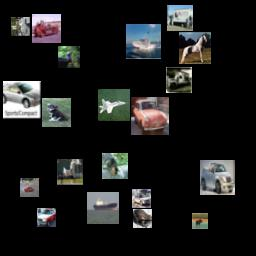airplane: (98, 89, 130, 121)
automobile: (131, 97, 169, 135), (3, 81, 41, 119), (200, 160, 235, 195), (37, 208, 56, 227), (132, 189, 151, 208), (20, 178, 39, 197)
bird: (58, 46, 80, 68)
cat: (102, 153, 128, 179), (11, 17, 30, 36)
deer: (192, 213, 208, 229)
dog: (42, 98, 71, 127)
frog: (133, 209, 152, 228)
ship: (126, 24, 161, 59), (87, 192, 119, 224)
truck: (32, 14, 61, 43), (166, 67, 192, 93), (167, 5, 193, 31)
